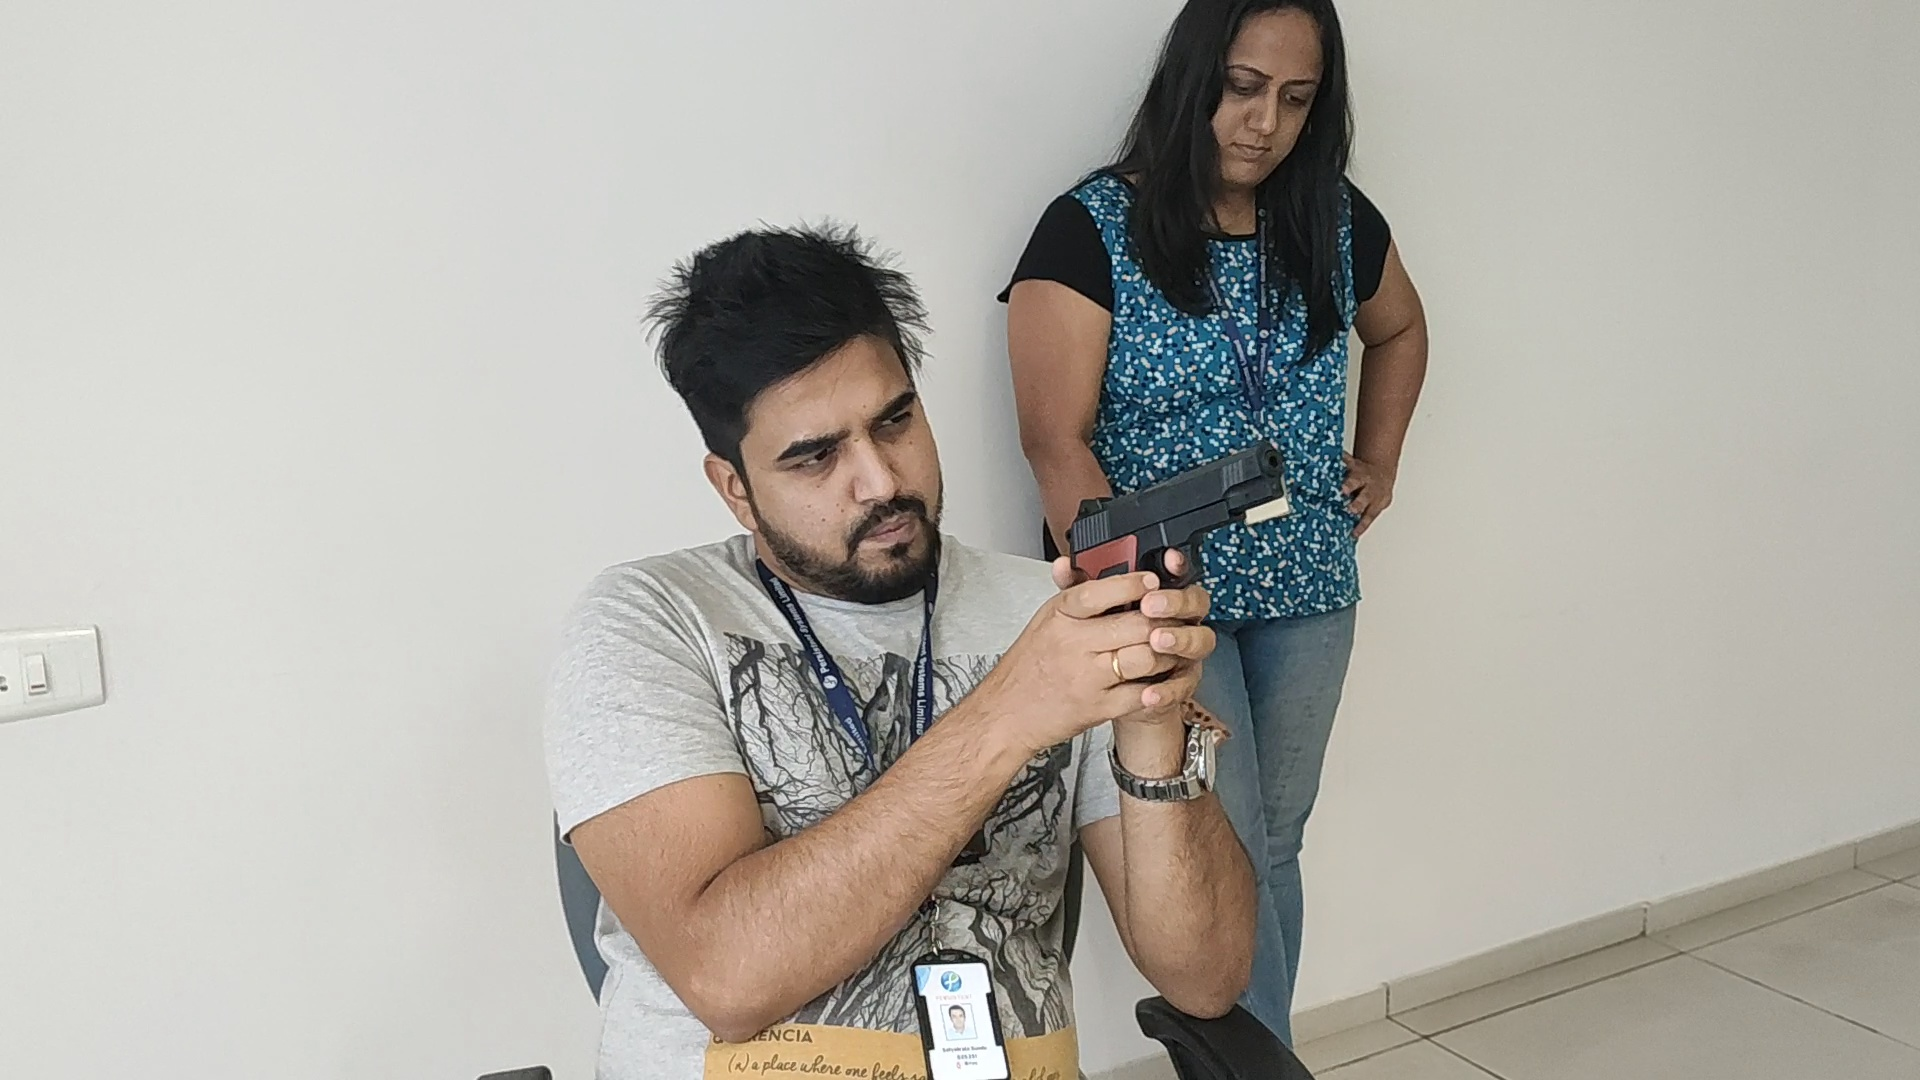gun: (1064, 443, 1284, 547)
